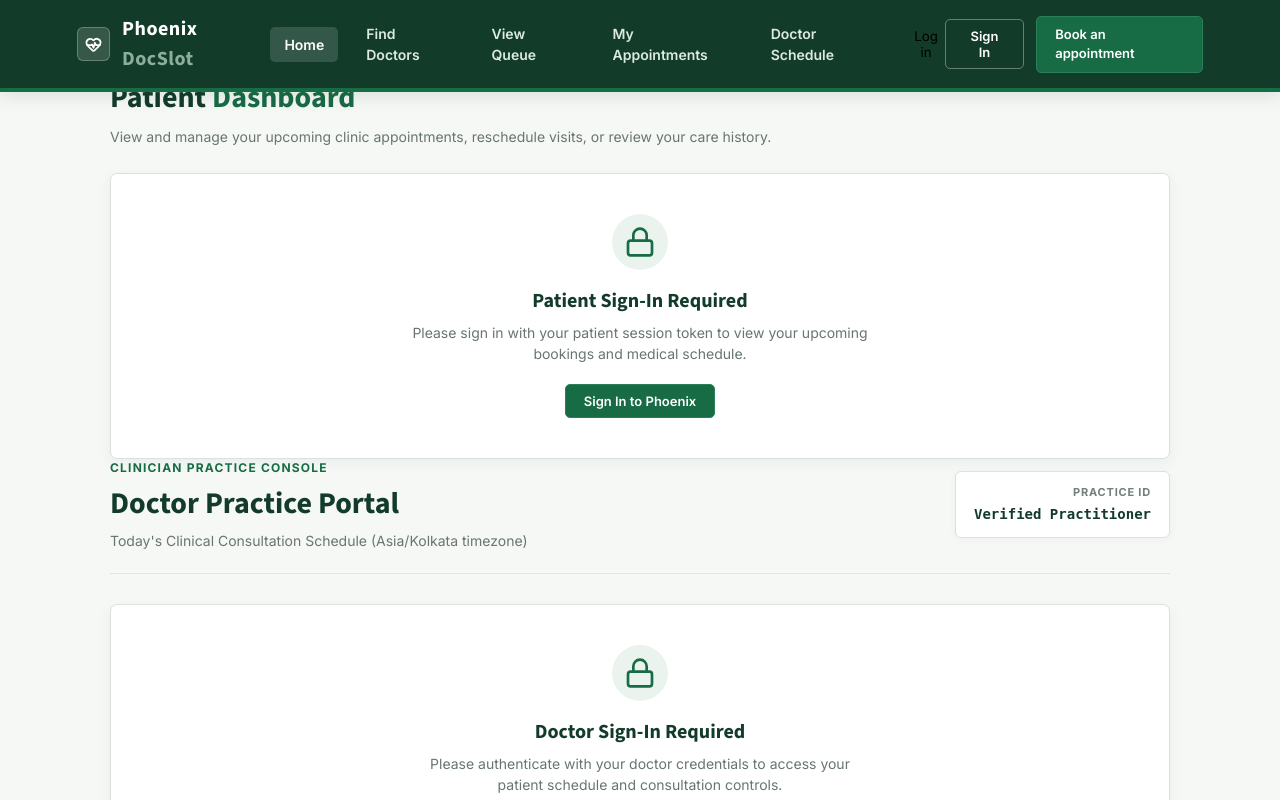
Scenario: PhoenixHome — Sign In Button and Auth Modal Interactions › opens the authentication modal when clicking Sign In to Phoenix from Patient Dashboard empty state
The width and height of the screenshot is (1280, 800).
(page scrolled)
// Click the patient dashboard button (second in list)
Click the button "Sign In to Phoenix".
click(640, 401)  # box left=565, top=384, right=715, bottom=418
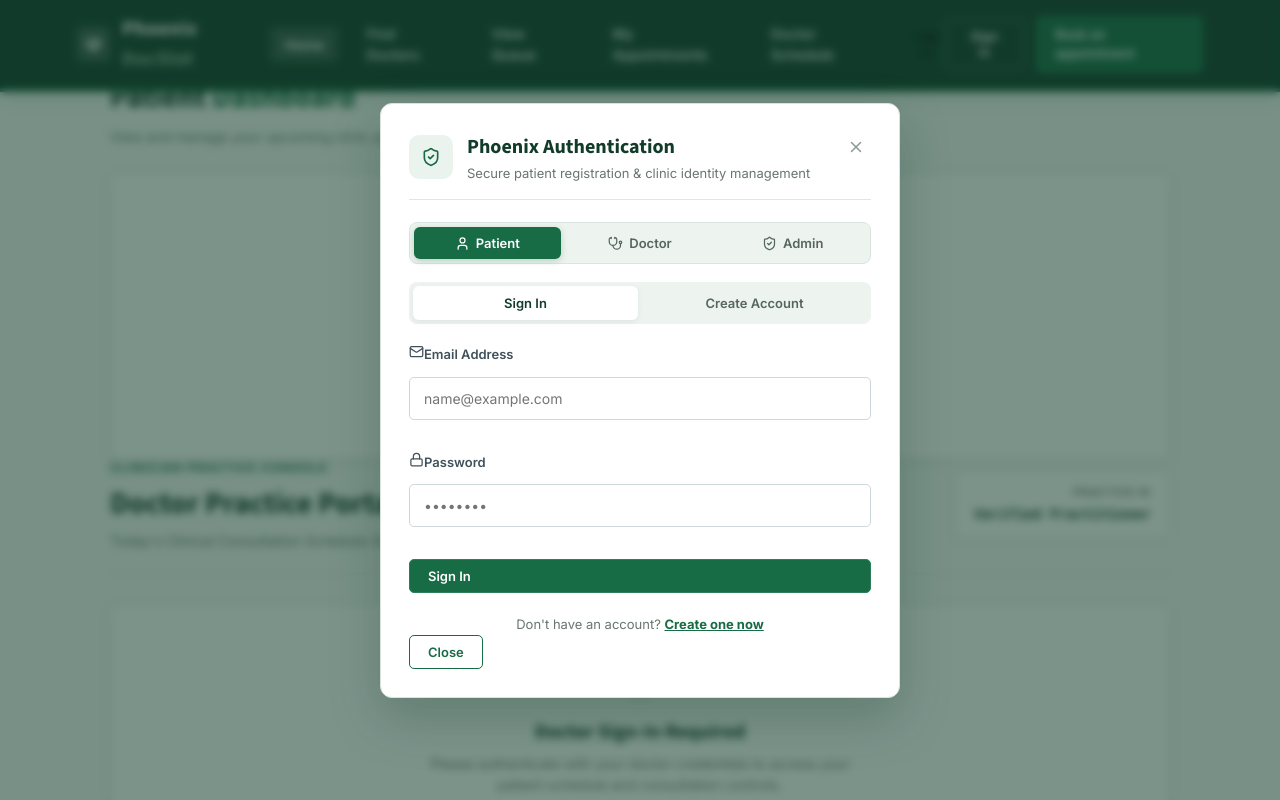
Expected: the dialog is shown
Expected: the heading "Phoenix Authentication" is shown, left=467, top=132, right=675, bottom=160
